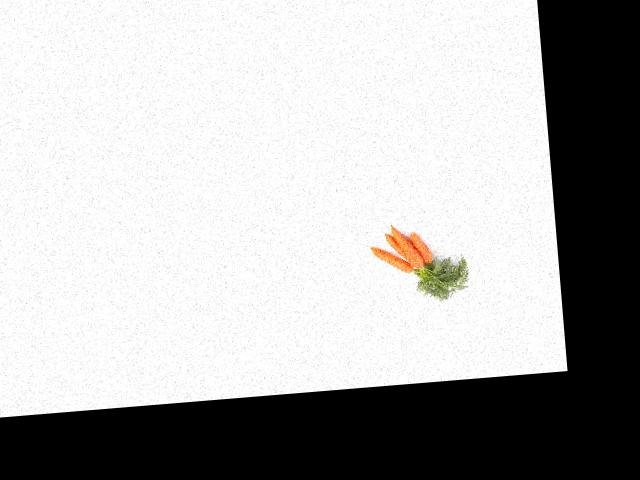carrot: (413, 230, 434, 264)
